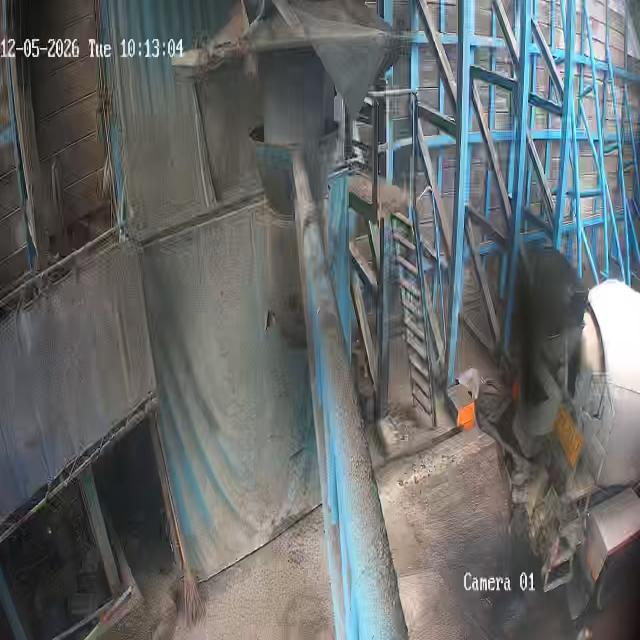cement_mixer_truck: (472, 275, 640, 640)
swing_chute: (250, 123, 343, 353)
